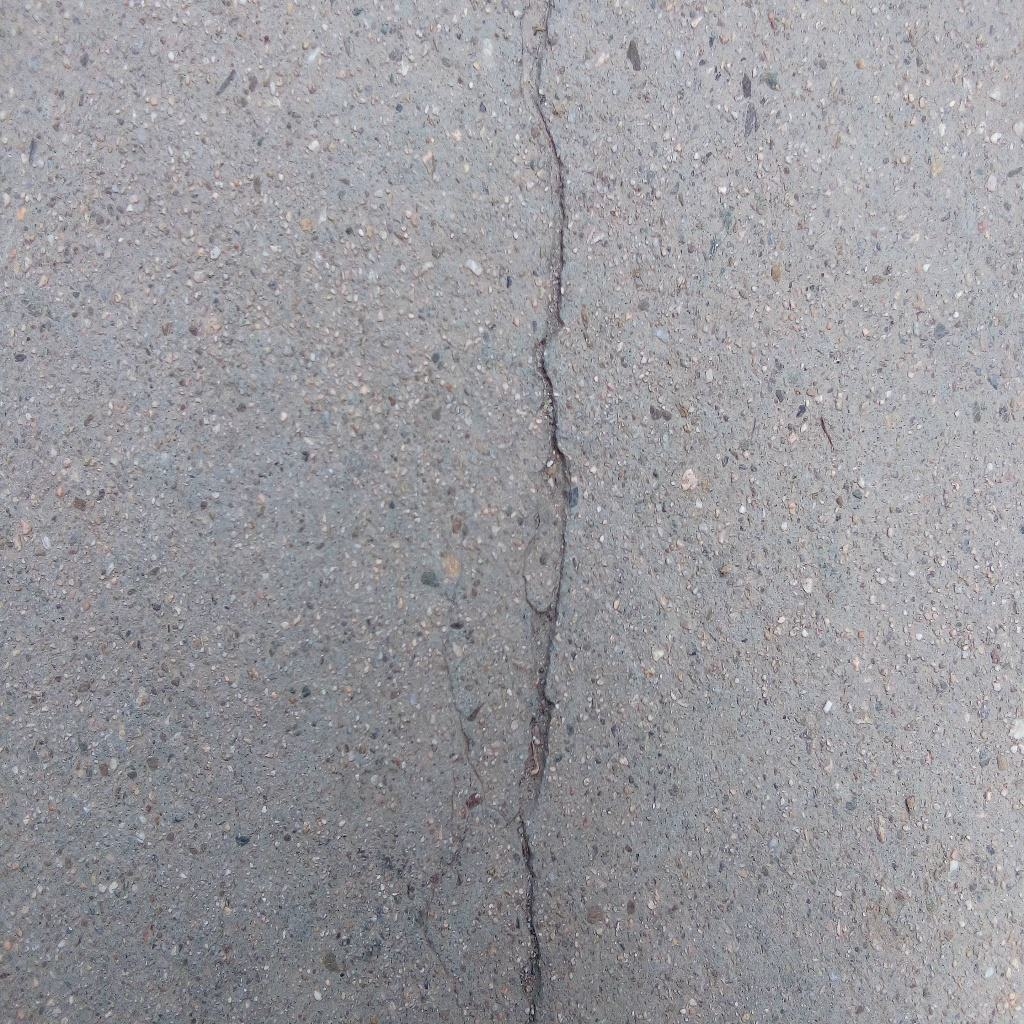Crack: (515, 1, 573, 1024)
